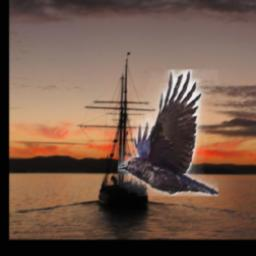Crow: (119, 71, 219, 197)
